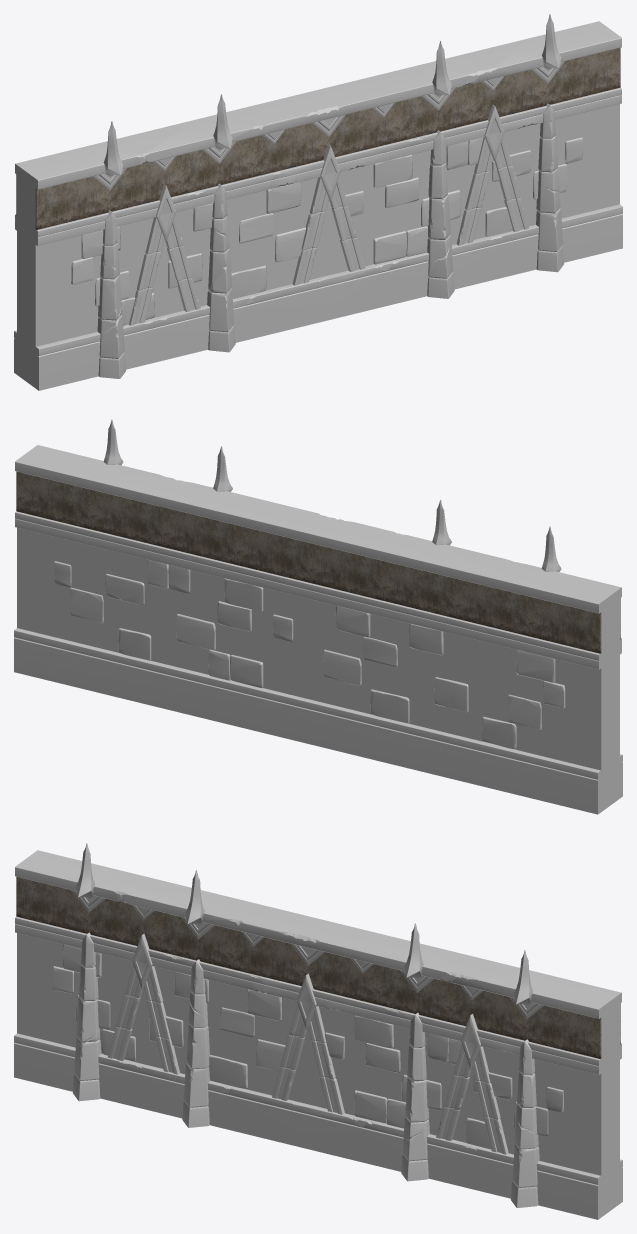
3 renders of one model, top to bottom at view 1: azimuth 30°, elevation 25°; view 2: azimuth 150°, elevation 25°; view 3: azimuth 330°, elevation 25°, orthographic.
Visible parts, largest first — view 1: SM_Fuzan_Arena_Wall_01_LOD0; view 2: SM_Fuzan_Arena_Wall_01_LOD0; view 3: SM_Fuzan_Arena_Wall_01_LOD0.
Boxes of the visible parts, bbox=[...] form: SM_Fuzan_Arena_Wall_01_LOD0: bbox=[14, 14, 622, 390]; SM_Fuzan_Arena_Wall_01_LOD0: bbox=[14, 419, 622, 814]; SM_Fuzan_Arena_Wall_01_LOD0: bbox=[14, 843, 622, 1219].
Bounding box in the file's own units: 32 × 13.21 × 3.21.
